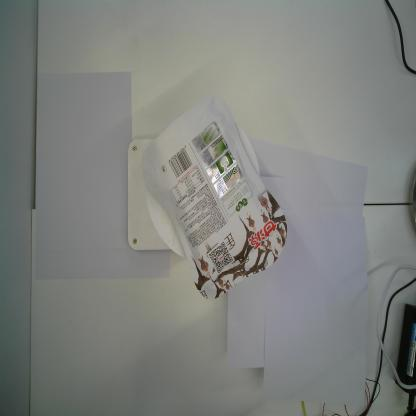Dried Fruit: (141, 95, 288, 300)
